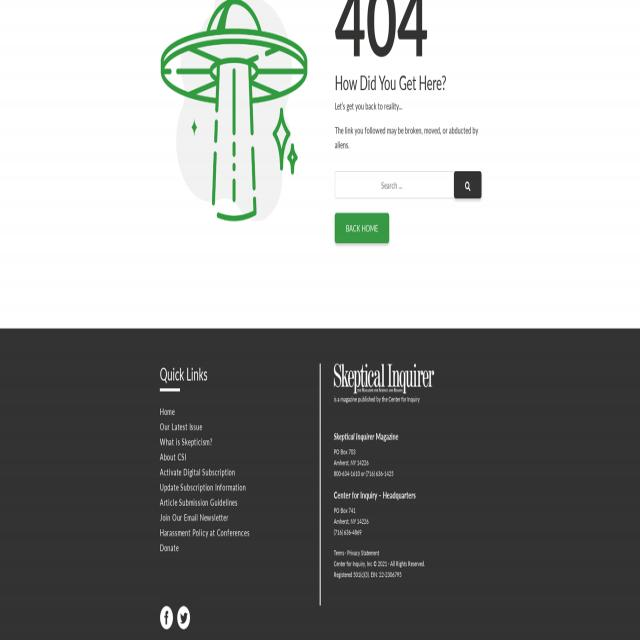button: (158, 0, 310, 225), (334, 363, 434, 394), (335, 213, 389, 243), (454, 172, 482, 198), (160, 606, 173, 629), (177, 606, 190, 629)
field: (335, 172, 454, 198)
